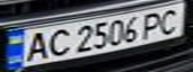0: (106, 17, 127, 47)
2: (72, 23, 96, 53)
5: (90, 19, 112, 51)
6: (121, 14, 145, 44)
A: (18, 29, 51, 62)
C: (42, 26, 72, 59), (154, 6, 187, 36)
P: (136, 10, 169, 39)
